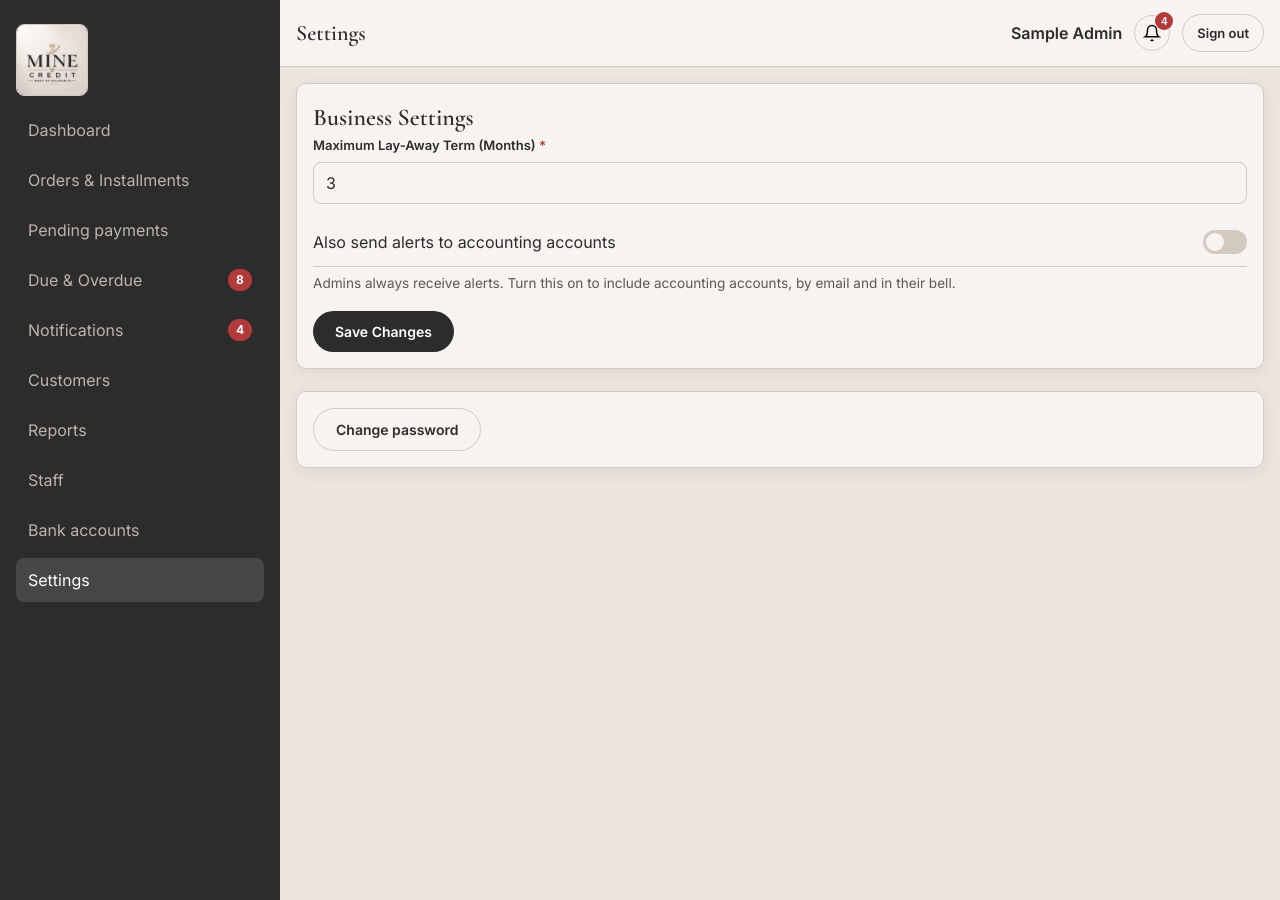
admin settings › opens change password in a dialog on demand
Expected: the field showing "3" is shown, x1=313 y1=162 x2=1247 y2=204
Expected: the field labelled "Current password" is not shown
Click the button "Change password".
click(397, 429)  # box x1=313 y1=408 x2=481 y2=451
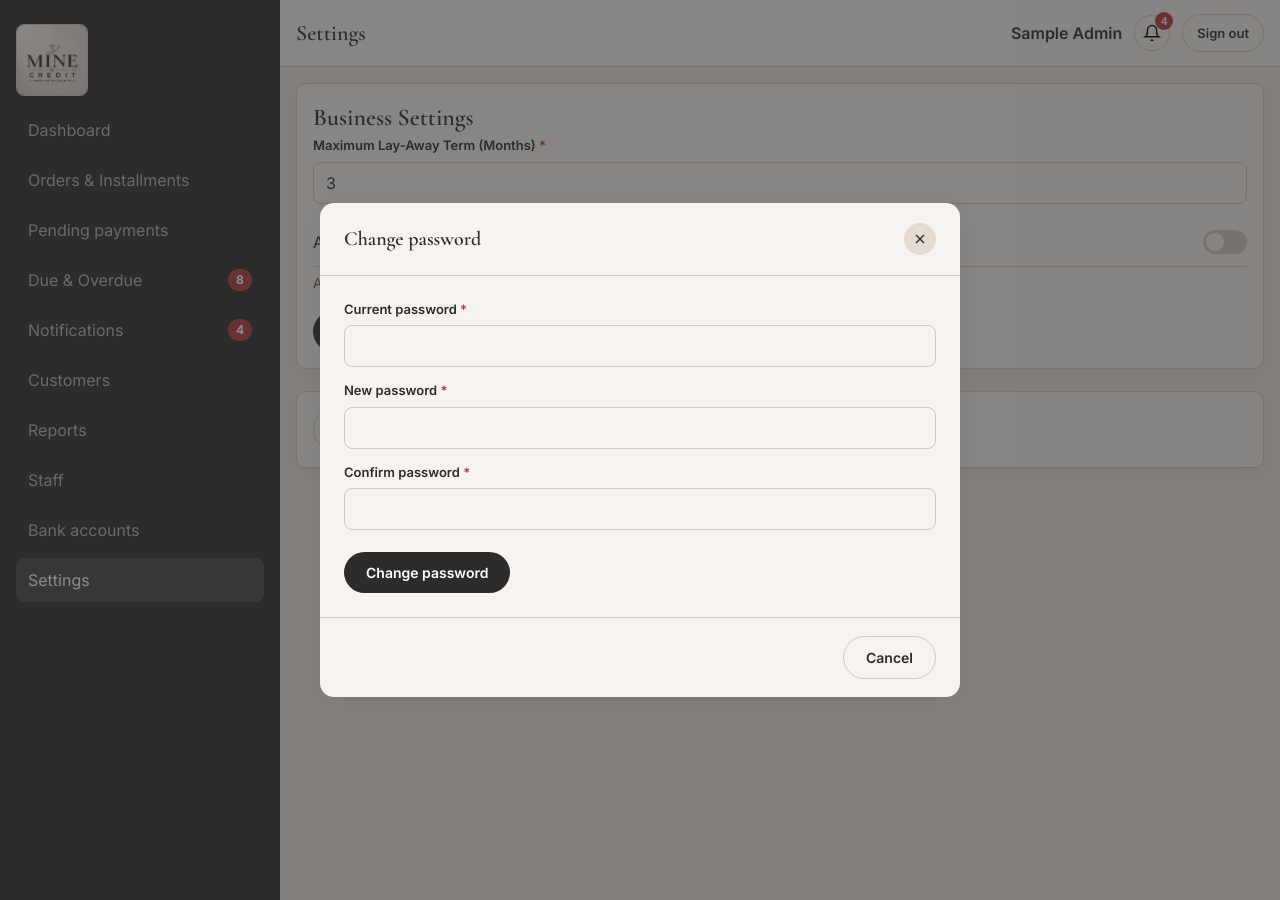
Now the password field labelled "Current password" is shown, box x1=344 y1=325 x2=936 y2=367
